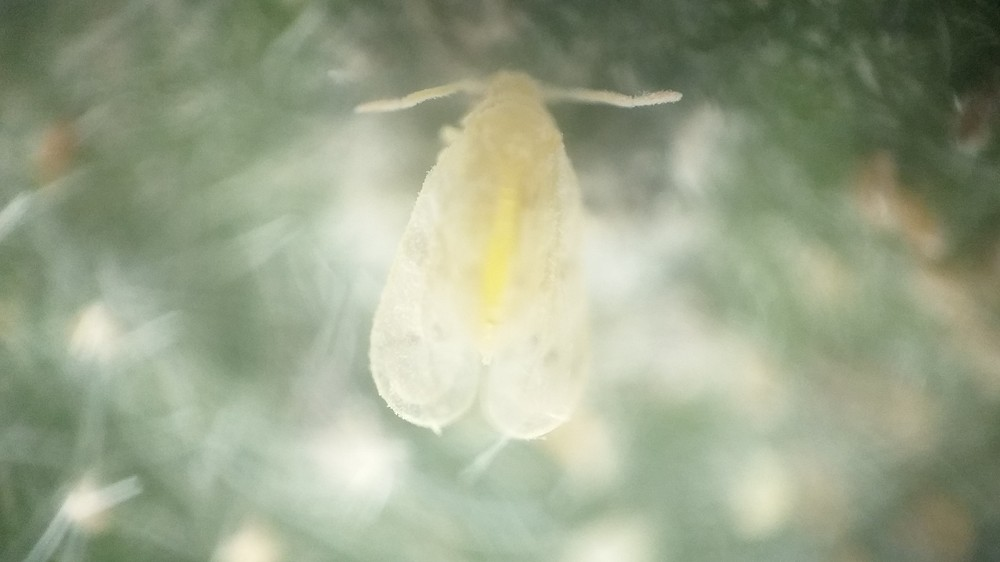Mosca Blanca: (330, 60, 687, 462)
